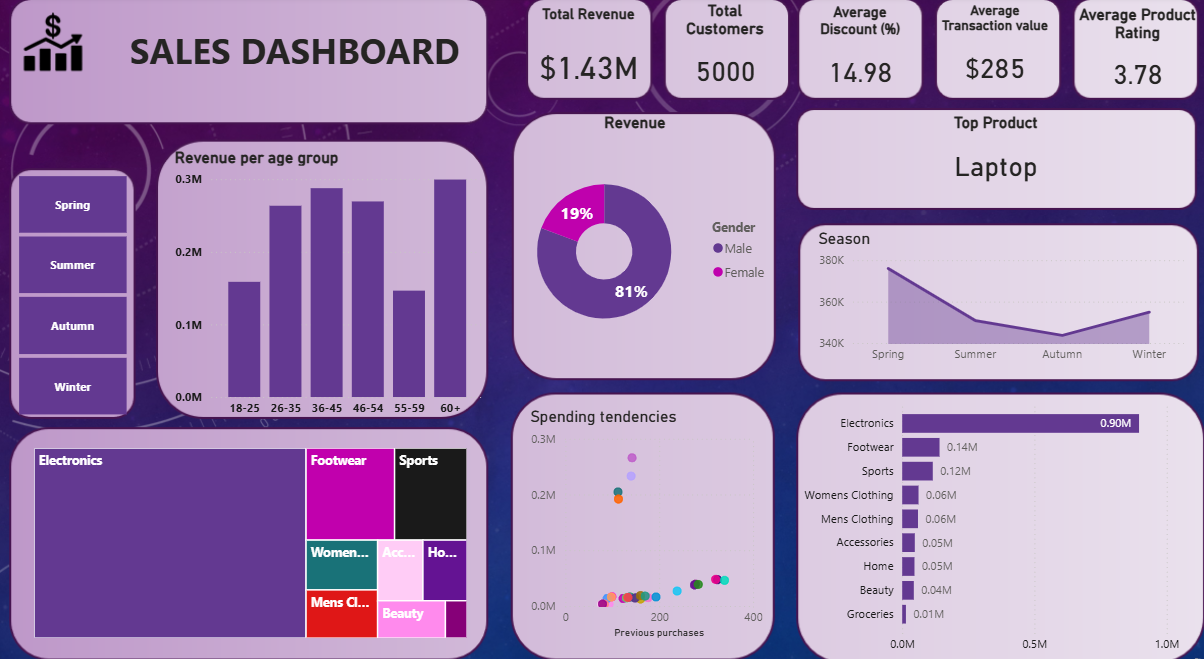

Layout of this report page (visuals, bound fields, positions):
{"tool":"powerbi","page":{"name":"Executive","canvas":[1280,720],"ordinal":0},"visuals":[{"type":"card","title":"Total Revenue","fields":{"Values":["Sum(store_sales.Amount)"]},"box":[547.2,9.5,155.9,108.2],"z":0},{"type":"clusteredBarChart","fields":{"Category":["store_sales.Category"],"Y":["Sum(store_sales.Amount)"]},"box":[841.4,419.9,419.9,284.7],"z":1},{"type":"stackedAreaChart","title":"Season","fields":{"Category":["Season.Season"],"Y":["Sum(store_sales.Amount)"]},"box":[863.7,246.5,397.7,151.1],"z":2},{"type":"card","title":"Average Transaction value","fields":{"Values":["Avg(store_sales.Amount)"]},"box":[992.5,6.4,127.2,105],"z":3},{"type":"card","title":"Average Product Rating","fields":{"Values":["Avg(store_sales.ItemRating)"]},"box":[1134.1,9.5,146.3,105],"z":4},{"type":"card","title":"Total Customers","fields":{"Values":["CountNonNull(Customer.CustomerID)"]},"box":[706.2,4.8,127.2,108.2],"z":5},{"type":"donutChart","title":"Revenue","fields":{"Category":["Customer.Gender"],"Y":["Sum(store_sales.Amount)"]},"box":[521.7,124.1,305.4,273.6],"z":6},{"type":"treemap","fields":{"Group":["store_sales.Category"],"Values":["Sum(store_sales.Amount)"]},"box":[31.8,474,469.2,211.6],"z":7},{"type":"clusteredColumnChart","title":"Revenue per age group","fields":{"Category":["Customer.Age groups"],"Y":["Sum(store_sales.Amount)"]},"box":[181.3,160.7,337.2,294.3],"z":8},{"type":"slicer","fields":{"Values":["Season.Season"]},"box":[0,187.7,154.3,259.3],"z":9},{"type":"card","title":"Top Product","fields":{"Values":["Min(store_sales.ItemPurchased)"]},"box":[957.5,124.1,198.8,90.7],"z":10},{"type":"textbox","box":[133.6,27,410.4,90.7],"z":11},{"type":"scatterChart","title":"Spending tendencies","fields":{"Series":["store_sales.ItemPurchased"],"X":["CountNonNull(store_sales.PreviousPurchases)"],"Y":["Sum(store_sales.Amount)"]},"box":[558.3,435.8,256.1,249.7],"z":12},{"type":"card","title":"Average Discount (%)","fields":{"Values":["Avg(store_sales.DiscountApplied(%))"]},"box":[849.4,8,127.2,105],"z":13}]}

Visuals, with their boxes in screenshot pixels (x1, y1, x2, y2), scaled from the page's 1280x720 canvas onto the 1204x659 screenshot:
"Total Revenue" card: <bbox>515, 9, 661, 108</bbox>
clusteredBarChart - store_sales.Category x Sum(store_sales.Amount): <bbox>791, 384, 1186, 645</bbox>
"Season" stackedAreaChart: <bbox>812, 226, 1187, 364</bbox>
"Average Transaction value" card: <bbox>934, 6, 1053, 102</bbox>
"Average Product Rating" card: <bbox>1067, 9, 1203, 105</bbox>
"Total Customers" card: <bbox>664, 4, 784, 103</bbox>
"Revenue" donutChart: <bbox>491, 114, 778, 364</bbox>
treemap - store_sales.Category x Sum(store_sales.Amount): <bbox>30, 434, 471, 628</bbox>
"Revenue per age group" clusteredColumnChart: <bbox>171, 147, 488, 416</bbox>
slicer - Season.Season: <bbox>0, 172, 145, 409</bbox>
"Top Product" card: <bbox>901, 114, 1088, 197</bbox>
textbox: <bbox>126, 25, 512, 108</bbox>
"Spending tendencies" scatterChart: <bbox>525, 399, 766, 627</bbox>
"Average Discount (%)" card: <bbox>799, 7, 919, 103</bbox>
